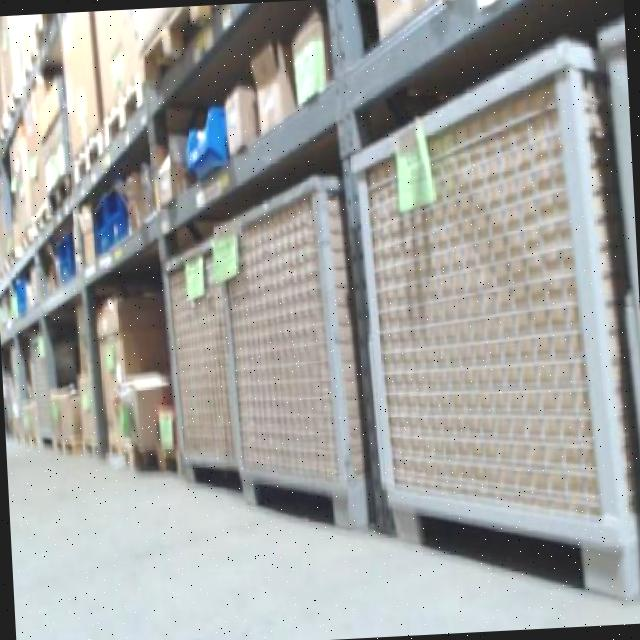pallet: (132, 3, 261, 100), (96, 66, 159, 160), (67, 118, 116, 191)
